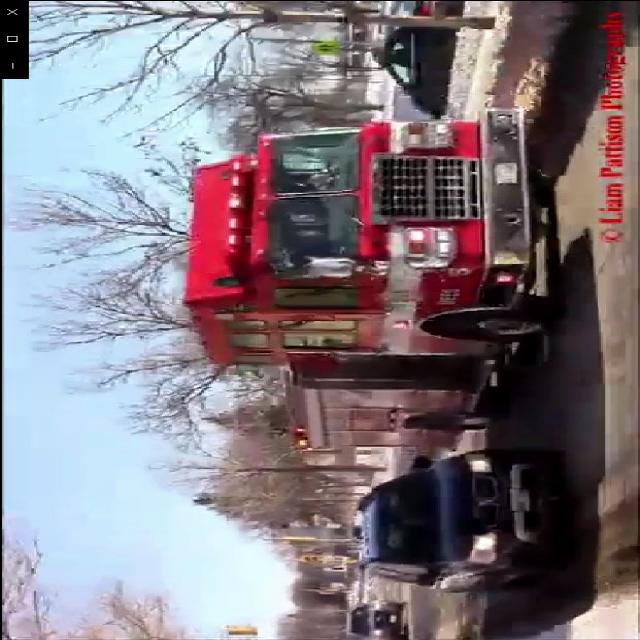emergency: (177, 95, 570, 454)
